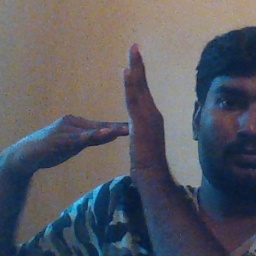Z: (60, 41, 170, 186)
